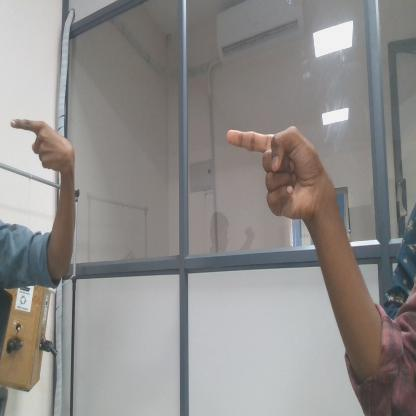Left: (216, 94, 334, 242), (4, 99, 79, 184)
